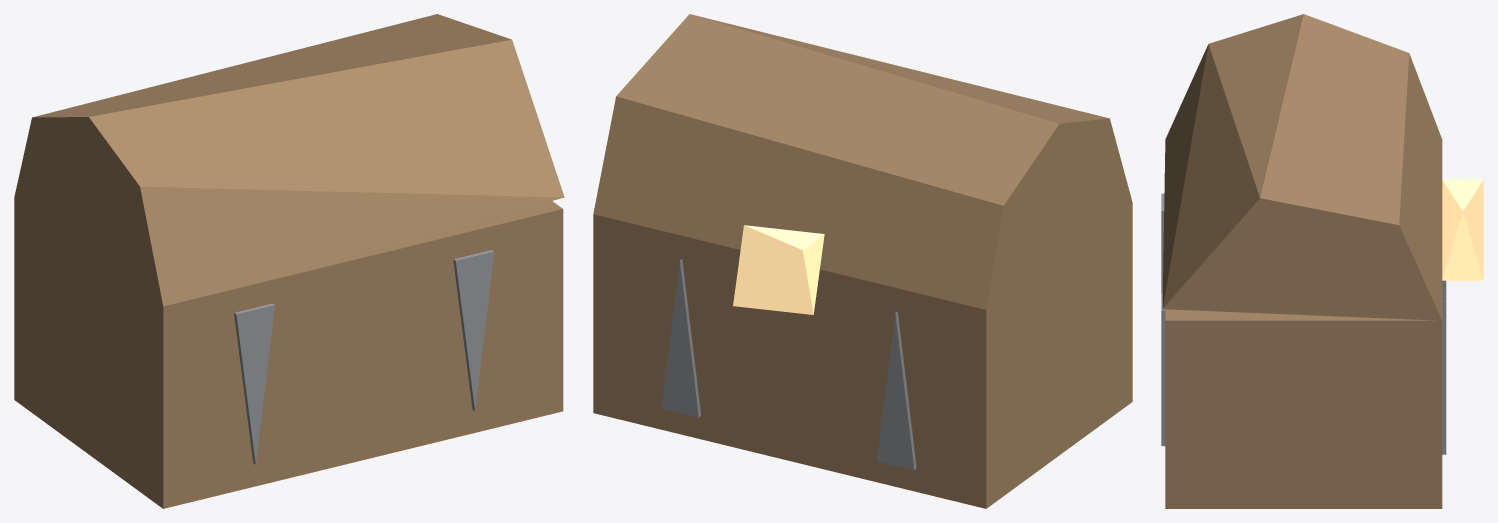
Rendered from 70-Interacciones_cofre_pequeno.glb.
3 views of the same model, side by side, from view 1: azimuth 30°, elevation 25°; view 2: azimuth 150°, elevation 25°; view 3: azimuth 270°, elevation 25° (orthographic). The views are drawn at different scales.
Visible parts, largest first — view 1: SM_Cofre_M_Madera_Cofre_Peq_Hierro_Cofre_Peq_Bronce_Cierre; view 2: SM_Cofre_M_Madera_Cofre_Peq_Hierro_Cofre_Peq_Bronce_Cierre; view 3: SM_Cofre_M_Madera_Cofre_Peq_Hierro_Cofre_Peq_Bronce_Cierre.
Part boxes in pixels (box(x1,y1,x2,y2)): SM_Cofre_M_Madera_Cofre_Peq_Hierro_Cofre_Peq_Bronce_Cierre: box(14, 14, 564, 508); SM_Cofre_M_Madera_Cofre_Peq_Hierro_Cofre_Peq_Bronce_Cierre: box(593, 14, 1132, 508); SM_Cofre_M_Madera_Cofre_Peq_Hierro_Cofre_Peq_Bronce_Cierre: box(1161, 14, 1483, 508).
Size of the model in its own units: 0.62 by 0.5 by 0.466.
